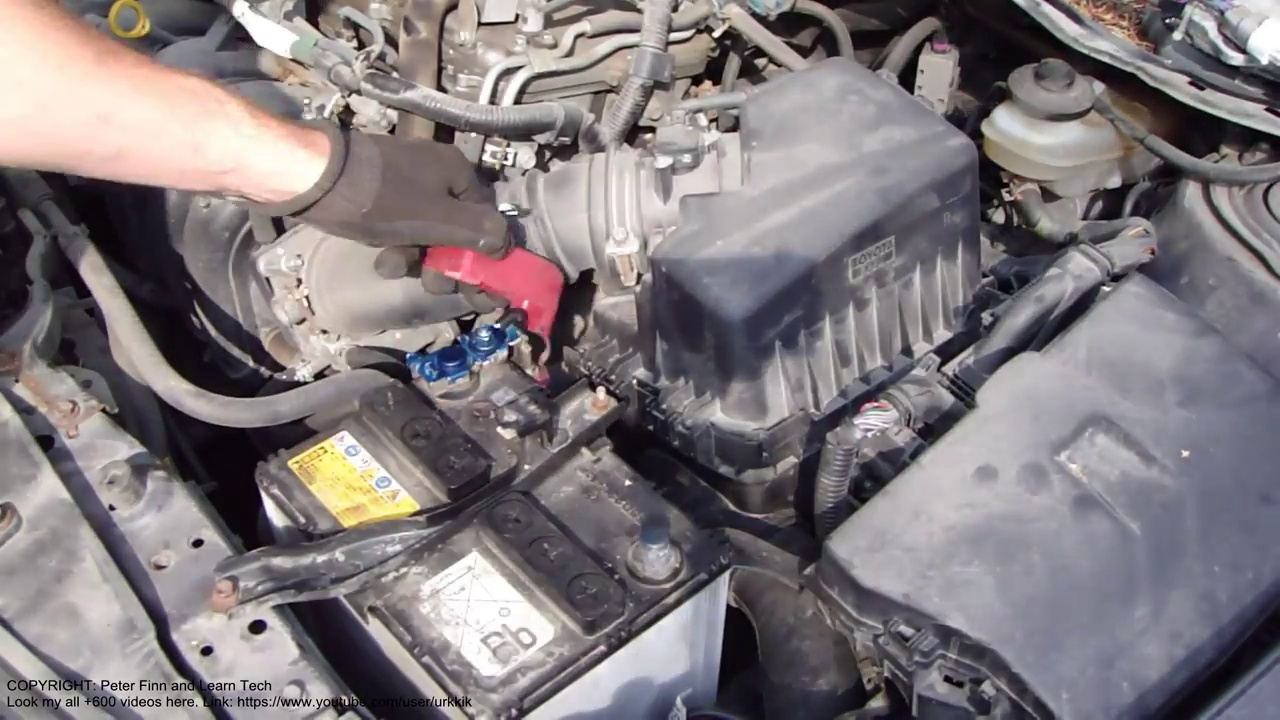battery: (252, 314, 748, 679)
neg_disconnected: (597, 498, 711, 603)
pos_connected: (389, 238, 577, 382)
pos_touched: (284, 115, 570, 379)
